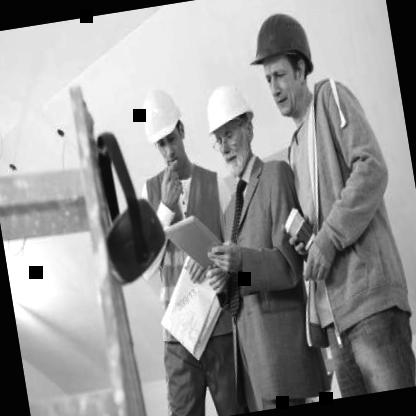helmet: (240, 0, 328, 128), (133, 70, 197, 182), (194, 73, 262, 175)
